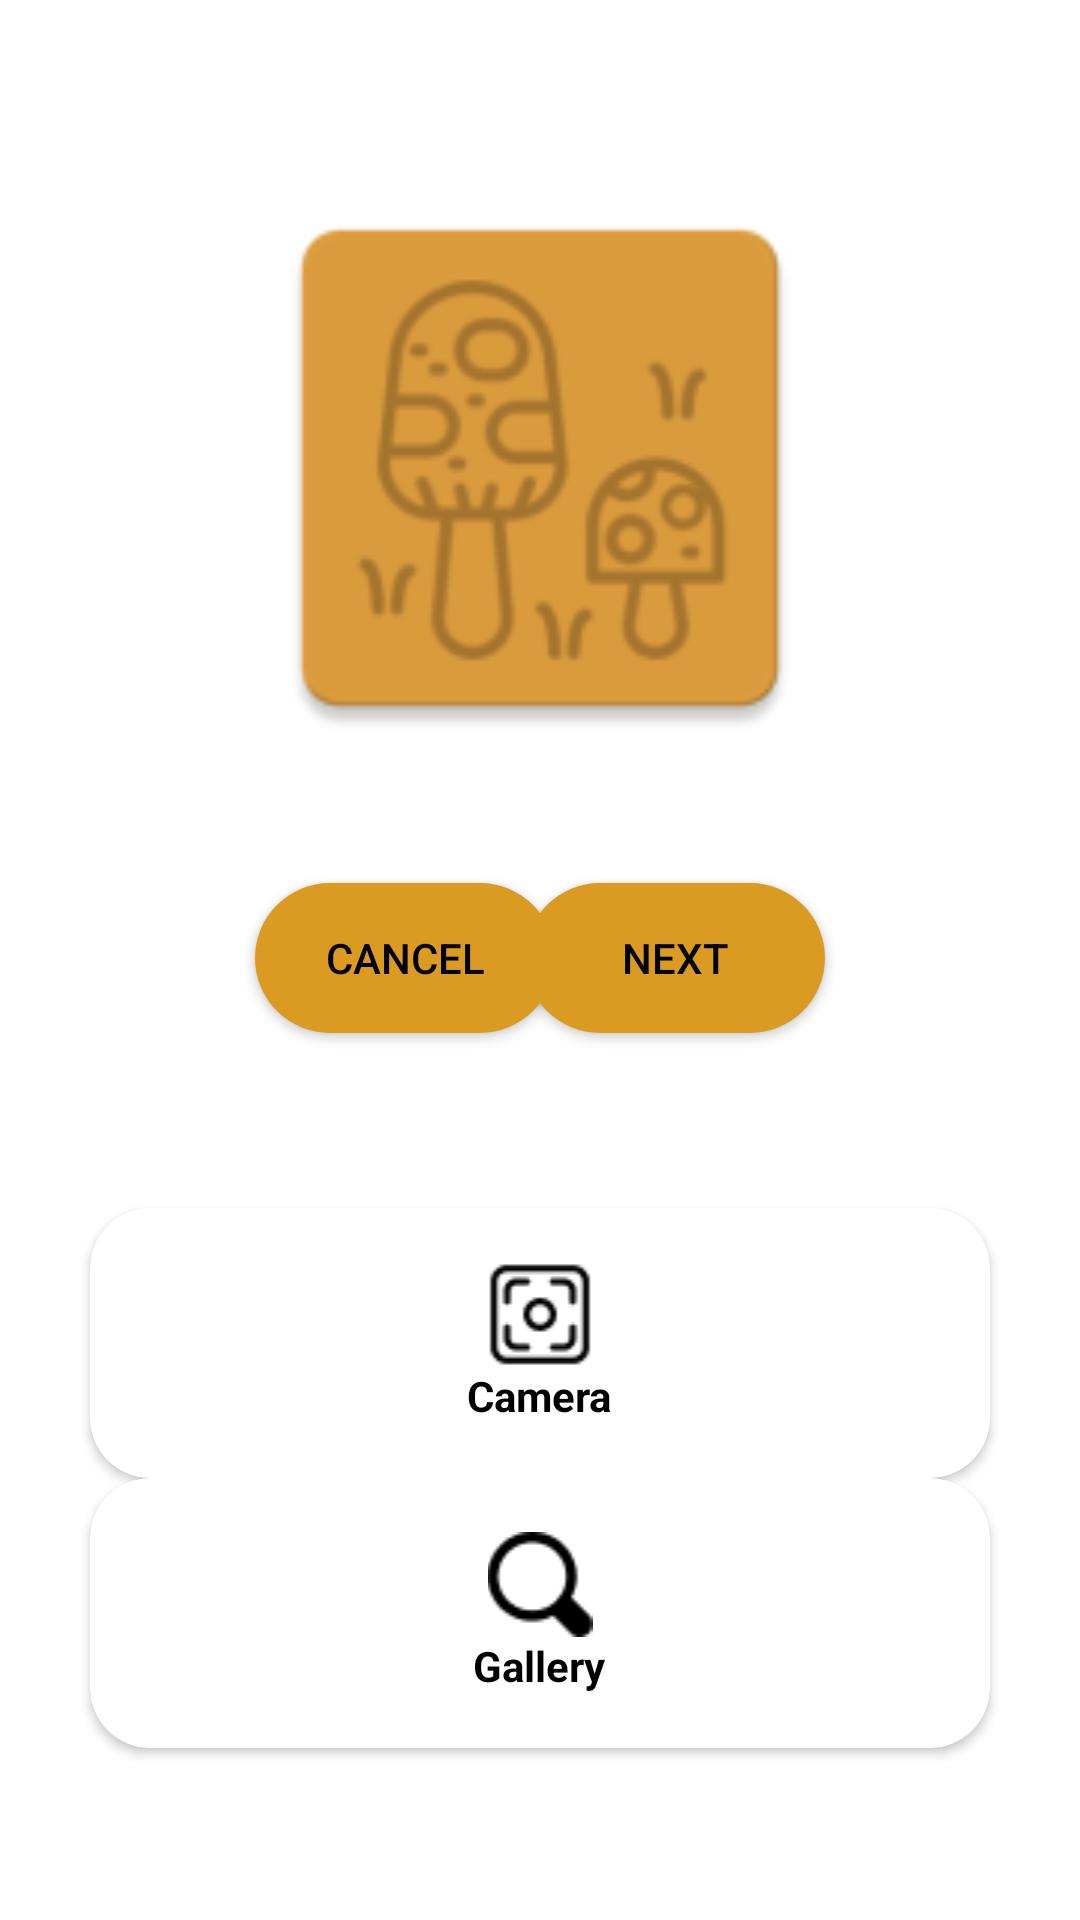

Named icons in this screenshot (1080px×1920px) and their centers, [x,y]:
loupe: [540,1584]
scan: [540,1314]
